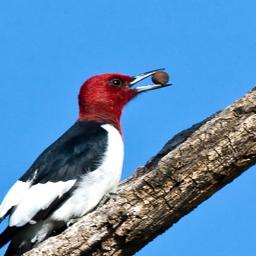Woodpecker: (0, 63, 175, 256)
